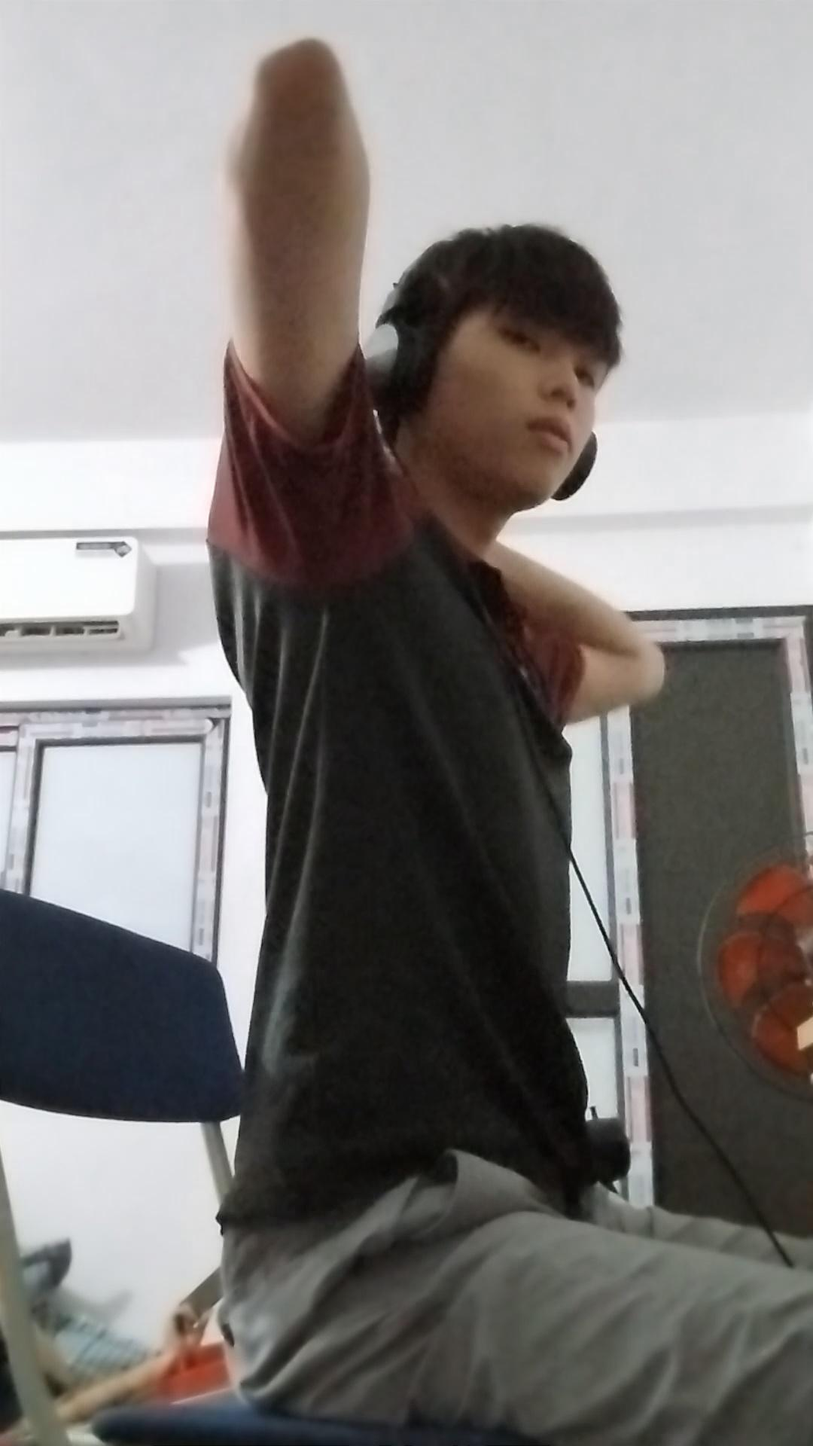GoodPosture: (208, 39, 812, 1445)
